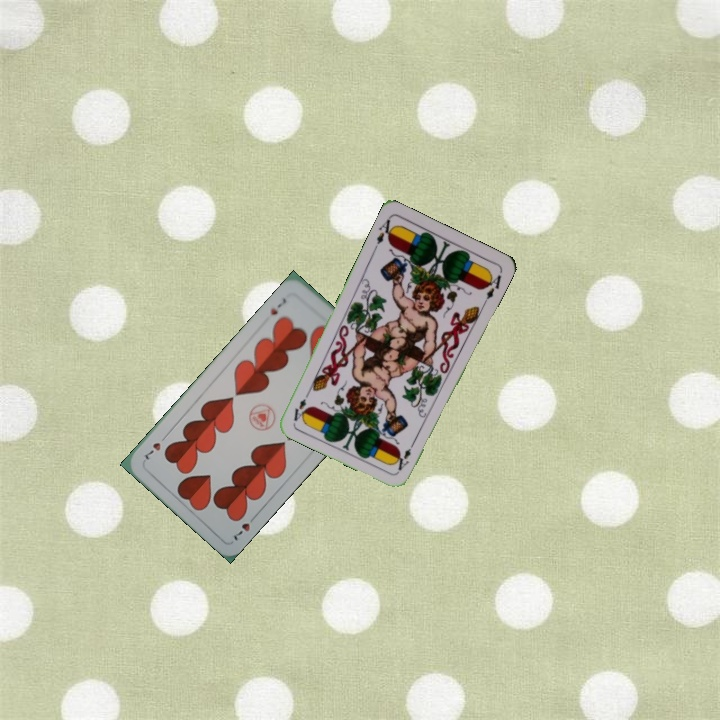EA: (370, 214, 398, 252), (394, 436, 418, 473)
H7: (228, 510, 259, 544), (266, 294, 289, 318)
